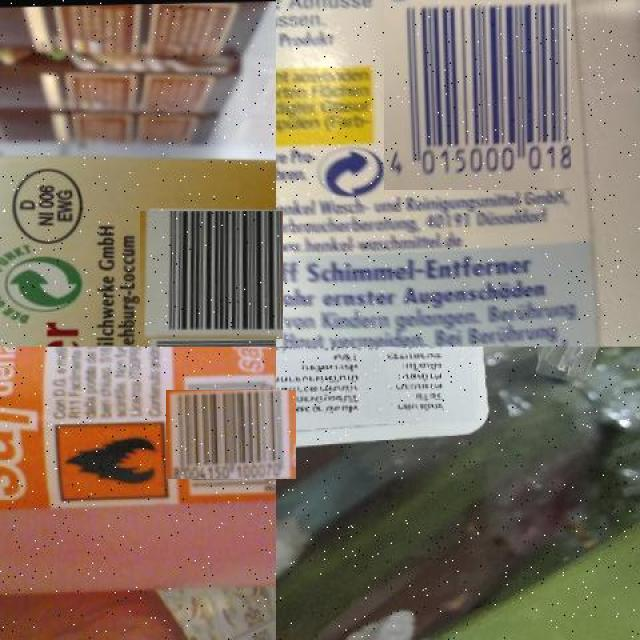Barcode: (383, 0, 573, 189), (143, 208, 280, 343), (176, 380, 287, 489)
